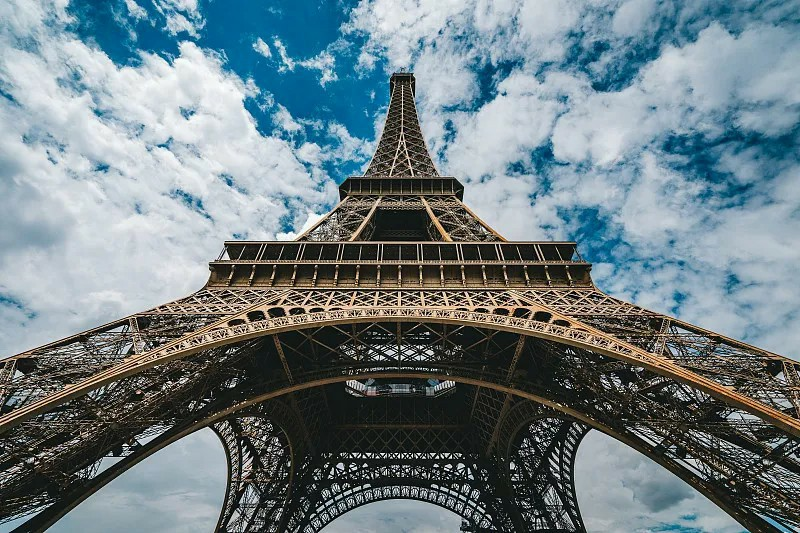Eiffel: (1, 66, 800, 533)
